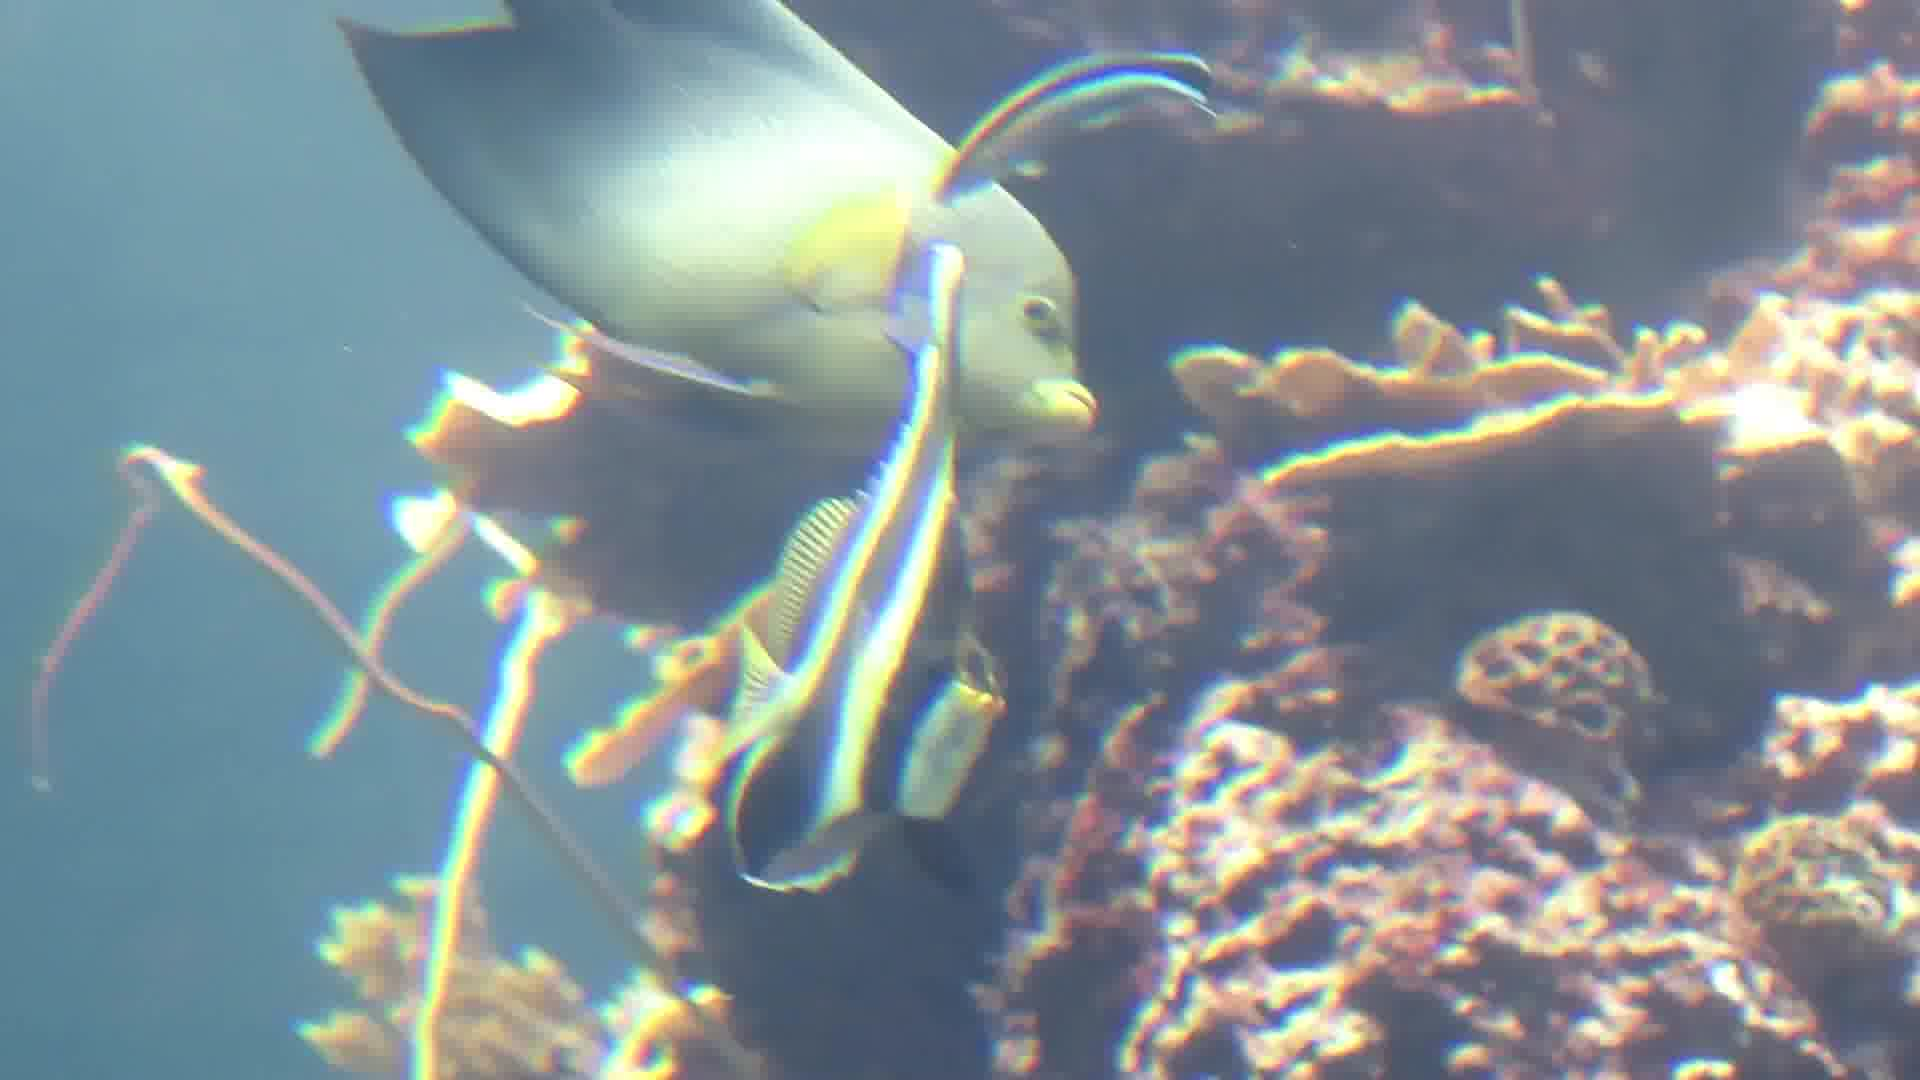Heniochus chrysostomus: (665, 179, 1108, 922)
